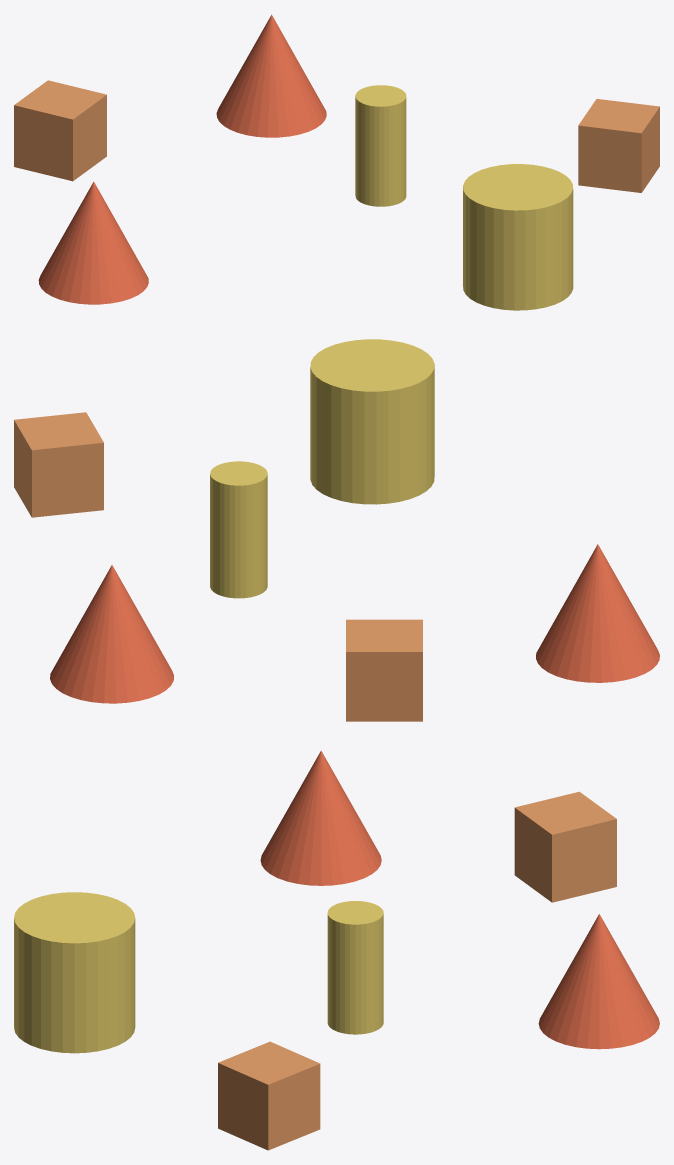
The model's file is lossetaak_kleur_small.glb.
The picture shows the model from 3 angles, top to bottom: view 1: azimuth 30°, elevation 25°; view 2: azimuth 150°, elevation 25°; view 3: azimuth 270°, elevation 25°; orthographic projection. The views are drawn at different scales.
Parts seen in each view (by area): view 1: Cylinder.001, Cone.001, Cone.002, Cube.001, Cube.002, Cylinder.002; view 2: Cylinder.001, Cone.001, Cone.002, Cube.002, Cube.001, Cylinder.002; view 3: Cylinder.001, Cube.001, Cone.002, Cone.001, Cube.002, Cylinder.002.
Part boxes in pixels (<box>): Cylinder.001: <box>463,164,573,310</box>; Cone.001: <box>216,14,326,137</box>; Cone.002: <box>38,181,148,304</box>; Cube.001: <box>14,80,106,181</box>; Cube.002: <box>578,99,659,192</box>; Cylinder.002: <box>355,85,406,206</box>; Cylinder.001: <box>310,339,434,504</box>; Cone.001: <box>50,565,173,703</box>; Cone.002: <box>536,544,659,682</box>; Cube.002: <box>14,412,103,517</box>; Cube.001: <box>346,619,422,721</box>; Cylinder.002: <box>210,461,267,598</box>; Cylinder.001: <box>14,892,135,1053</box>; Cube.001: <box>514,791,616,902</box>; Cone.002: <box>260,750,381,885</box>; Cone.001: <box>538,914,659,1049</box>; Cube.002: <box>218,1041,320,1150</box>; Cylinder.002: <box>327,901,383,1034</box>.
Size of the model in its own units: 1.22 by 0.1978 by 1.05.
